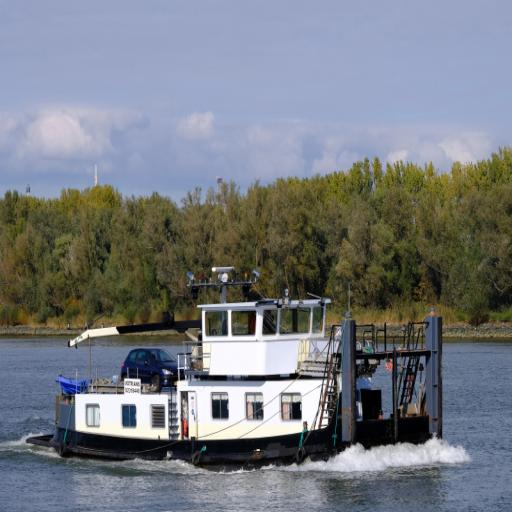tugboat: (25, 262, 447, 478)
